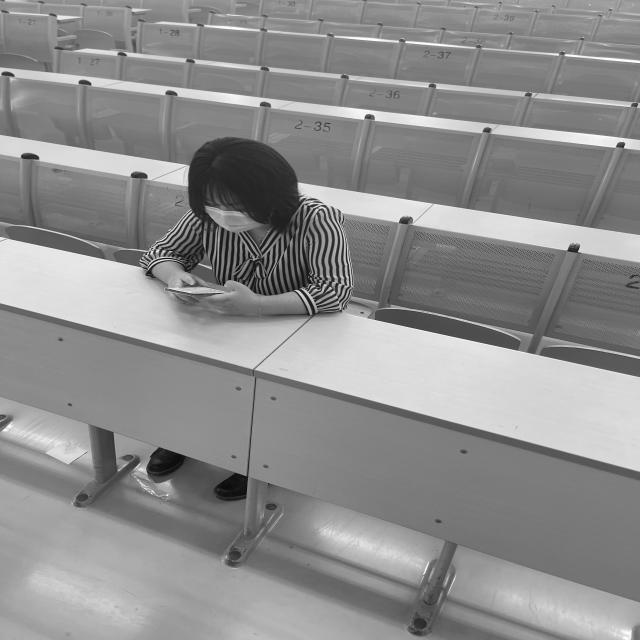phone: (141, 138, 350, 317)
